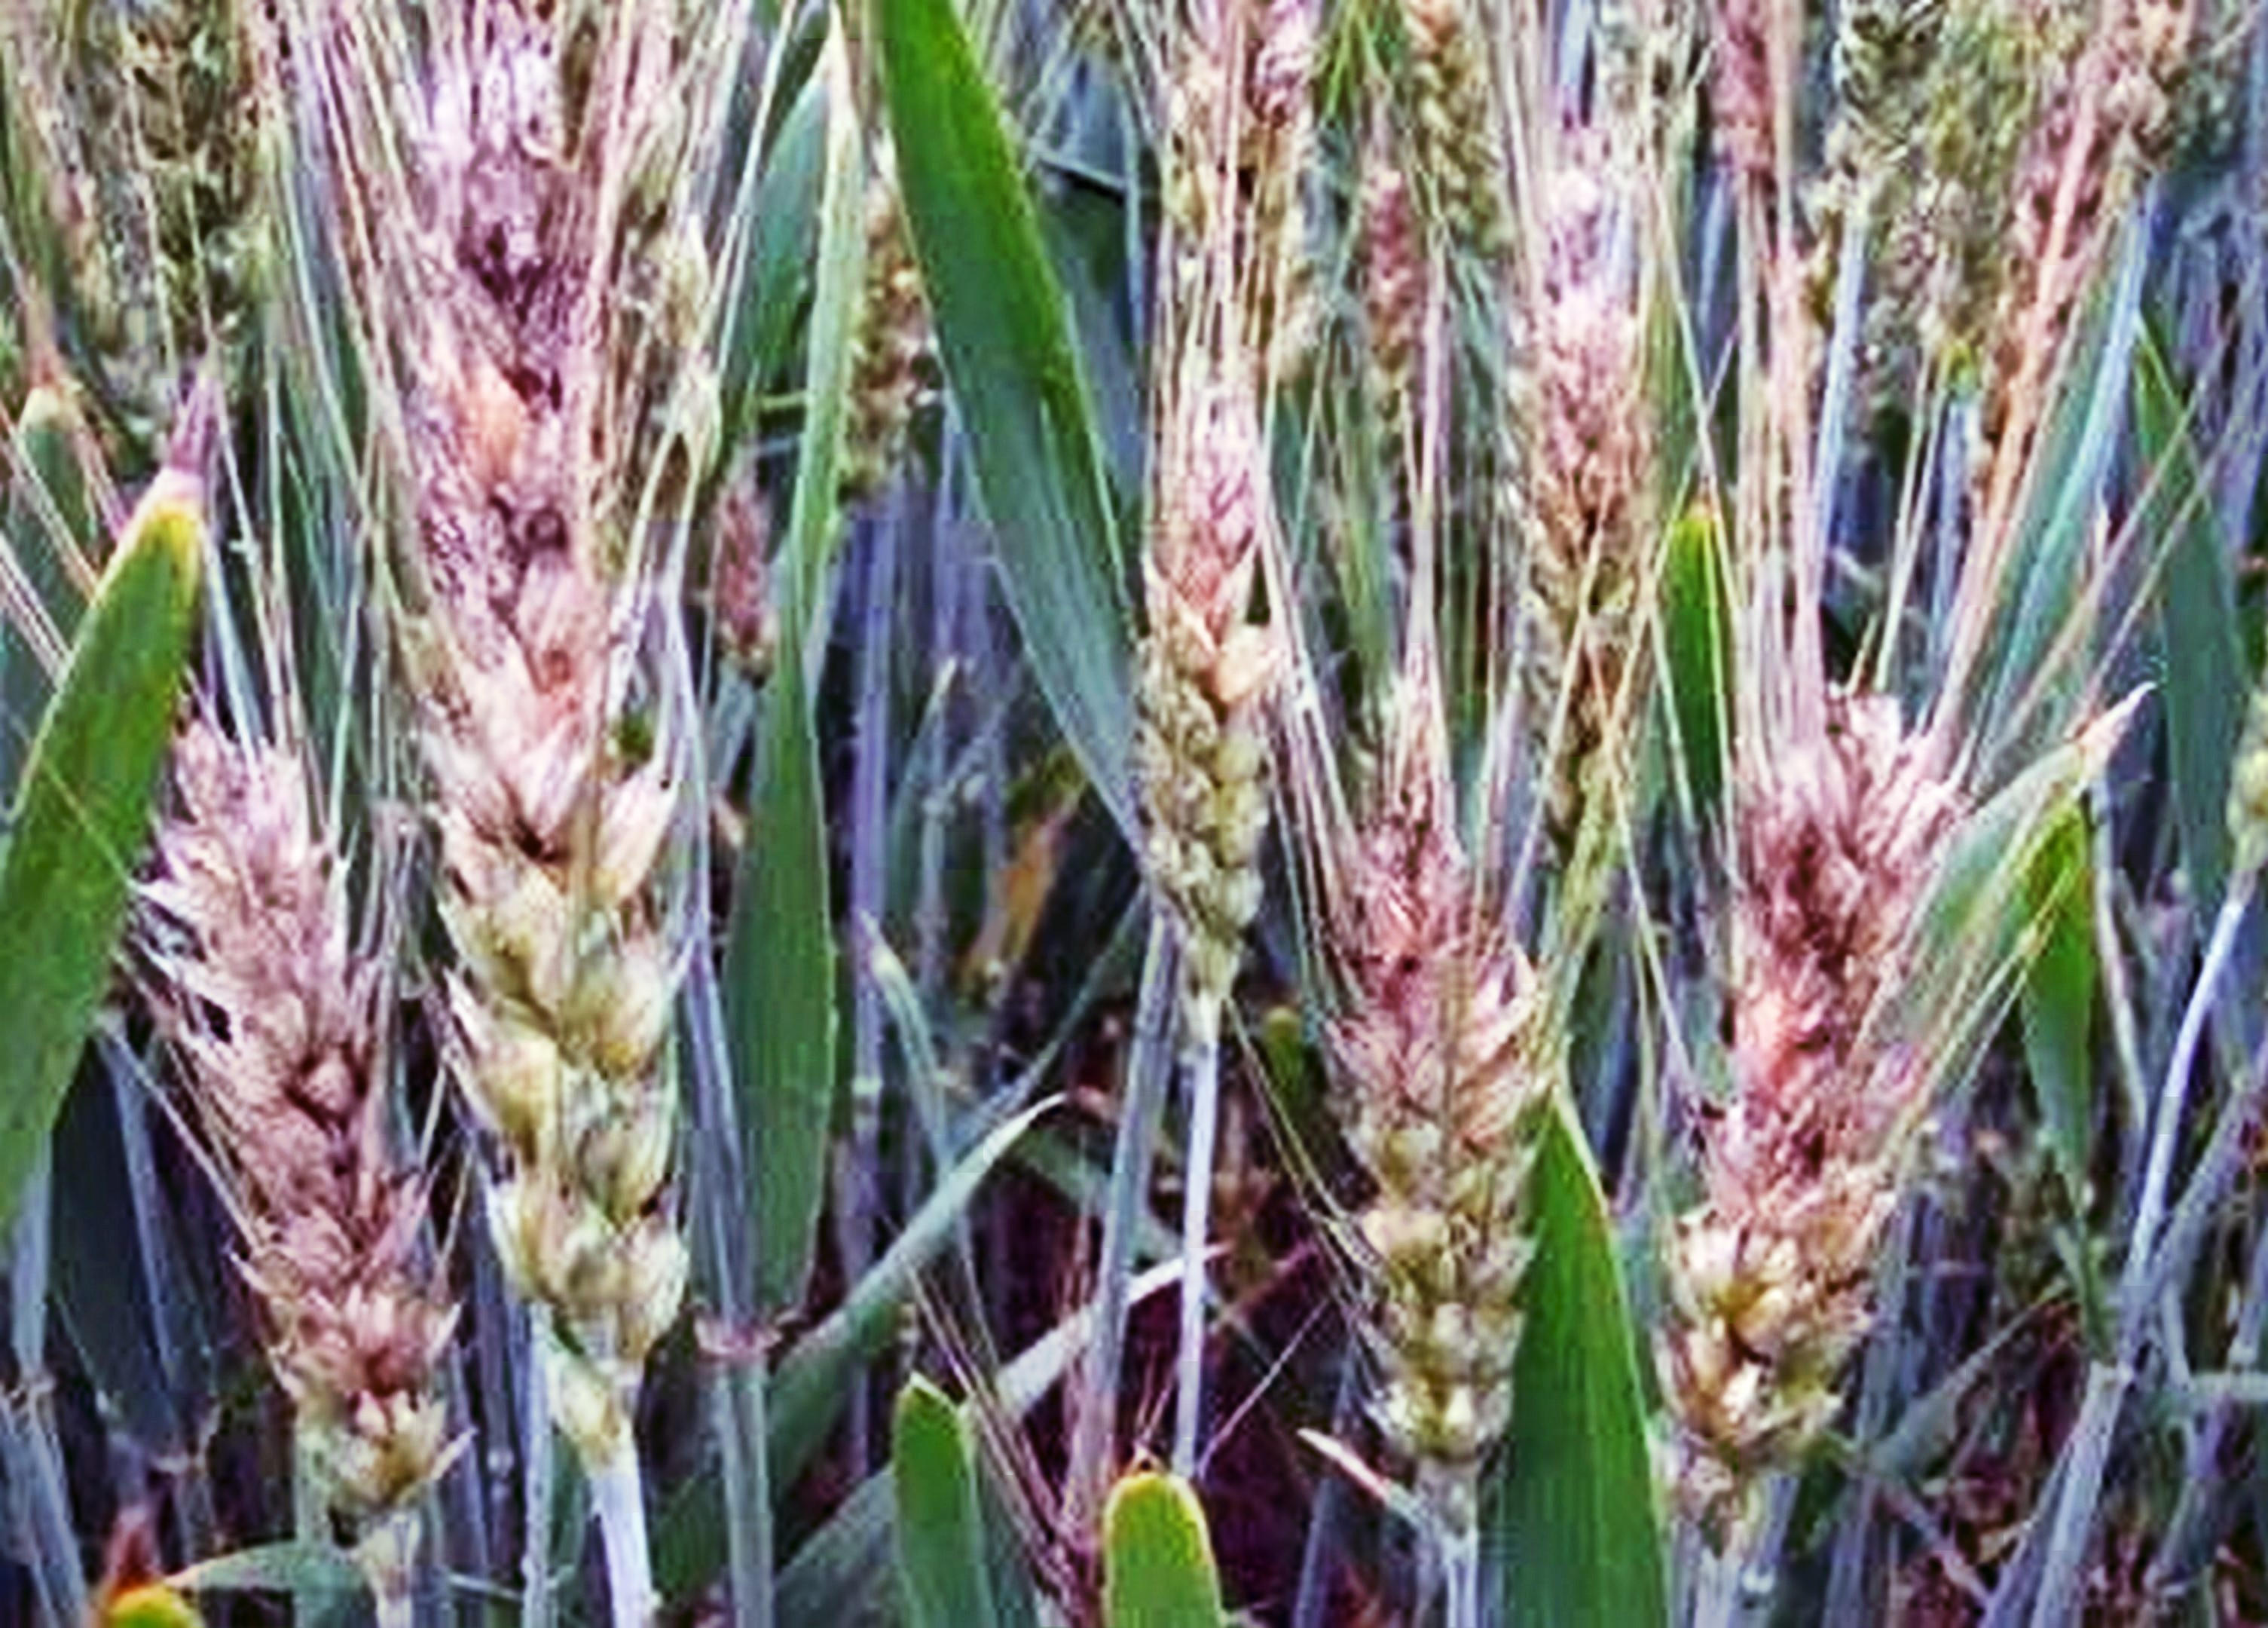Wheat scab: (143, 722, 449, 1491), (1331, 800, 1550, 1469), (1102, 409, 1296, 1034)
